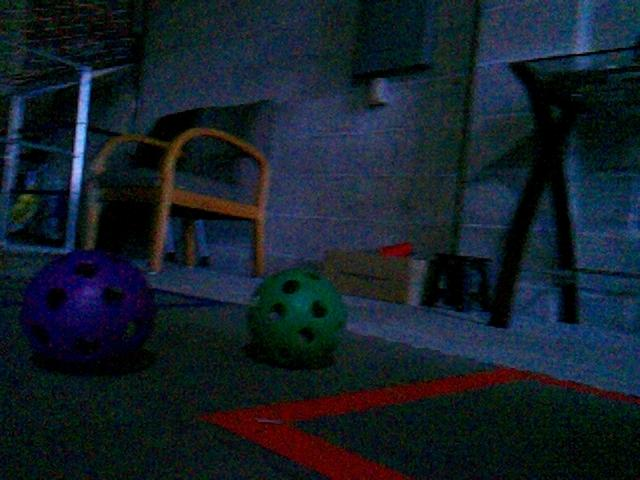Green: (245, 263, 349, 367)
Purple: (19, 245, 157, 369)
